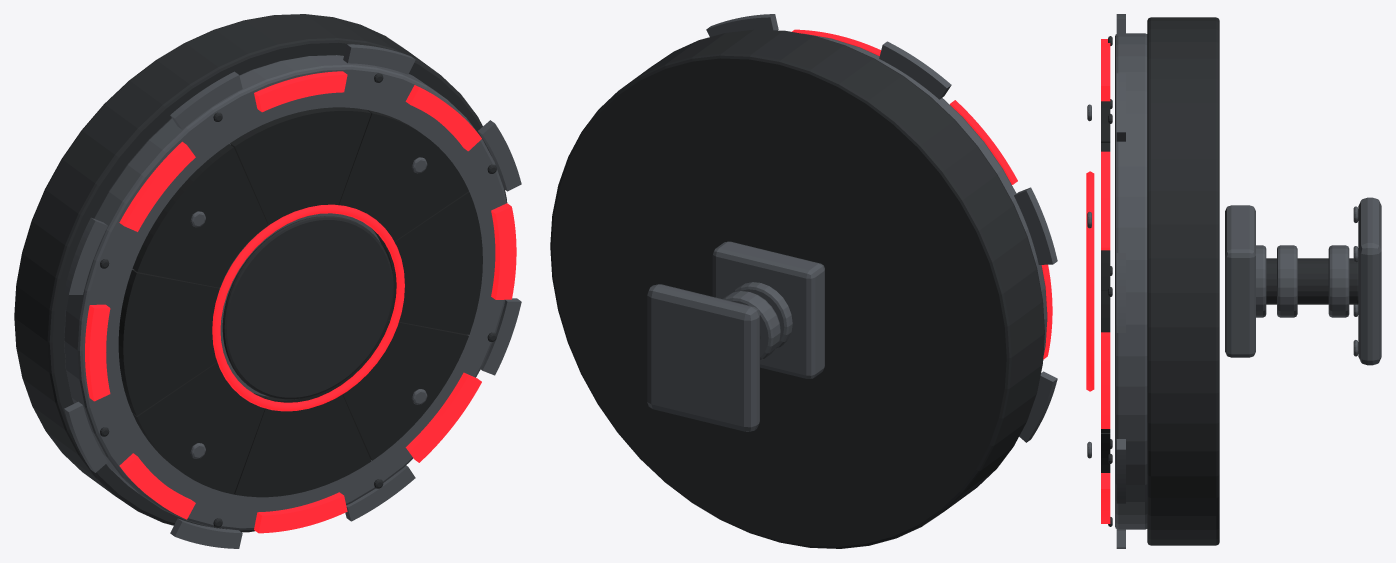
File: MountedHeavyTarget.fbx
3 renders of one model, left to right at view 1: azimuth 30°, elevation 25°; view 2: azimuth 150°, elevation 25°; view 3: azimuth 270°, elevation 25°, orthographic.
Parts seen in each view (by area): view 1: Surface_M_DD_MatteBlack.002, Surface_M_DD_MetalDark.002, FracturePiece_07.001, FracturePiece_06.001, FracturePiece_00.002, FracturePiece_05.002, FracturePiece_01.002, FracturePiece_04.002, FracturePiece_02.002, FracturePiece_03.002, Surface_M_DD_EmissiveRed.001, DamageSegment_03 (+7 smaller); view 2: Surface_M_DD_MatteBlack.002, Surface_M_DD_MetalDark.002, DamageSegment_07; view 3: Surface_M_DD_MatteBlack.002, Surface_M_DD_MetalDark.002, Surface_M_DD_EmissiveRed.001, DamageSegment_01, DamageSegment_02, DamageSegment_00, DamageSegment_03, FracturePiece_01.002, FracturePiece_02.002, FracturePiece_00.002, FracturePiece_03.002.
Part boxes in pixels (x1,y1,x2,y2): Surface_M_DD_MatteBlack.002: (14,14,507,532); Surface_M_DD_MetalDark.002: (64,44,521,548); FracturePiece_07.001: (132,144,268,287); FracturePiece_06.001: (118,269,219,415); FracturePiece_00.002: (230,107,371,224); FracturePiece_05.002: (132,362,268,494); FracturePiece_01.002: (338,110,468,247); FracturePiece_04.002: (234,385,371,497); FracturePiece_02.002: (381,191,482,334); FracturePiece_03.002: (338,320,468,460); Surface_M_DD_EmissiveRed.001: (212,204,404,411); DamageSegment_03: (405,372,481,462); Surface_M_DD_MatteBlack.002: (550,29,1044,548); Surface_M_DD_MetalDark.002: (647,14,1057,442); DamageSegment_07: (950,100,1017,184); Surface_M_DD_MatteBlack.002: (1108,17,1358,545); Surface_M_DD_MetalDark.002: (1087,14,1381,548); Surface_M_DD_EmissiveRed.001: (1086,171,1094,391); DamageSegment_01: (1101,151,1110,250); DamageSegment_02: (1101,332,1110,428); DamageSegment_00: (1101,43,1110,101); DamageSegment_03: (1101,473,1110,523); FracturePiece_01.002: (1101,142,1110,289); FracturePiece_02.002: (1101,290,1110,432); FracturePiece_00.002: (1101,101,1110,142); FracturePiece_03.002: (1101,433,1110,472).
Size of the model in its own units: 204 by 204 by 114.
